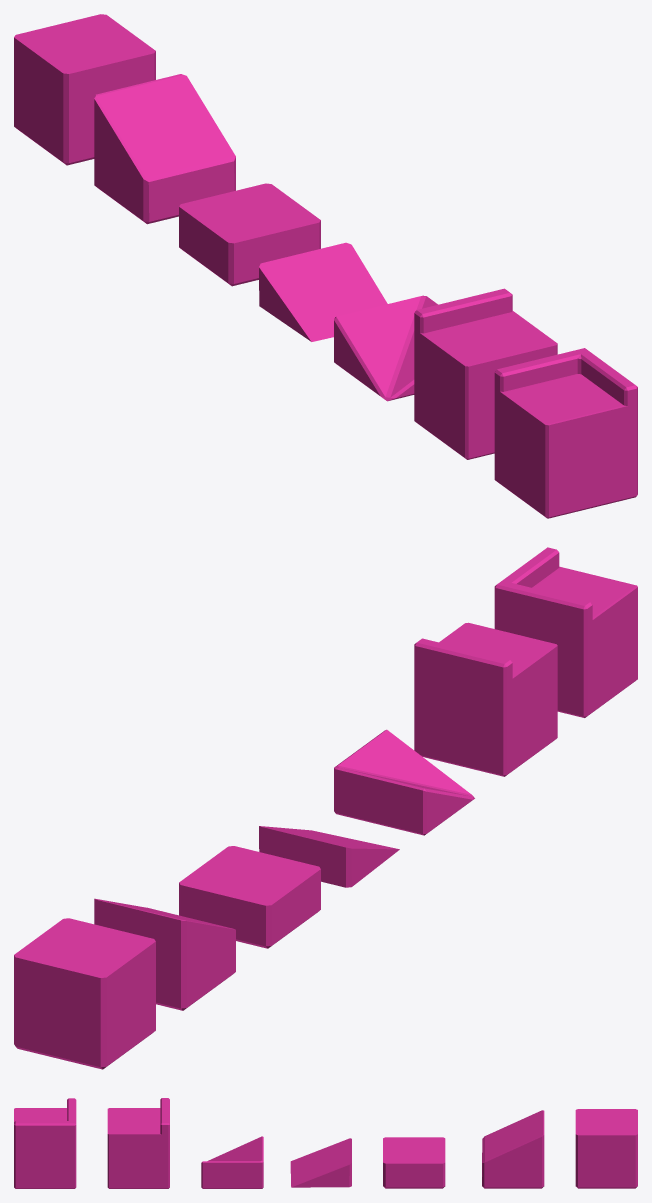
File: blocks_game_pirple.glb
The picture shows the model from 3 angles, top to bottom: view 1: azimuth 30°, elevation 25°; view 2: azimuth 150°, elevation 25°; view 3: azimuth 270°, elevation 25°; orthographic projection. The views are drawn at different scales.
Parts seen in each view (by area): view 1: block_wall_corner, ramp_top, block_wall, block, miniblock, ramp_mini, ramp_lower_corner; view 2: block_wall, block, block_wall_corner, miniblock, ramp_lower_corner, ramp_top, ramp_mini; view 3: block_wall, block_wall_corner, block, ramp_top, miniblock, ramp_lower_corner, ramp_mini.
Boxes of the visible parts, box(x1,y1,x2,y2) form: block_wall_corner: box(494, 348, 637, 518); ramp_top: box(94, 74, 235, 224); block_wall: box(414, 288, 557, 459); block: box(14, 14, 155, 165); miniblock: box(179, 183, 320, 286); ramp_mini: box(259, 242, 387, 341); ramp_lower_corner: box(334, 295, 437, 401); block_wall: box(414, 622, 557, 776); block: box(14, 918, 155, 1069); block_wall_corner: box(494, 547, 637, 717); miniblock: box(179, 846, 320, 948); ramp_lower_corner: box(334, 729, 474, 835); ramp_top: box(94, 898, 235, 1010); ramp_mini: box(259, 826, 399, 887); block_wall: box(107, 1098, 169, 1188); block_wall_corner: box(14, 1098, 76, 1188); block: box(575, 1109, 637, 1188); ramp_top: box(482, 1110, 544, 1188); miniblock: box(383, 1137, 445, 1188); ramp_lower_corner: box(201, 1136, 263, 1188); ramp_mini: box(290, 1138, 351, 1187).
Size of what is drawn, in the model's own units: 2 by 2.33 by 20.
